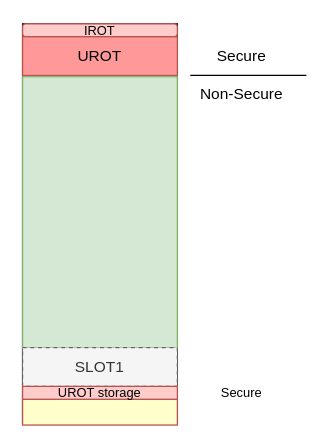
The diagram is 330 pixels wide and 448 high, and some of its shapes have lost their labels. Here are the shapes that lost their labels. From the top down, the box of each, then its label:
(21, 75, 177, 348): SLOT0
(21, 398, 177, 425): IronSide DFU
